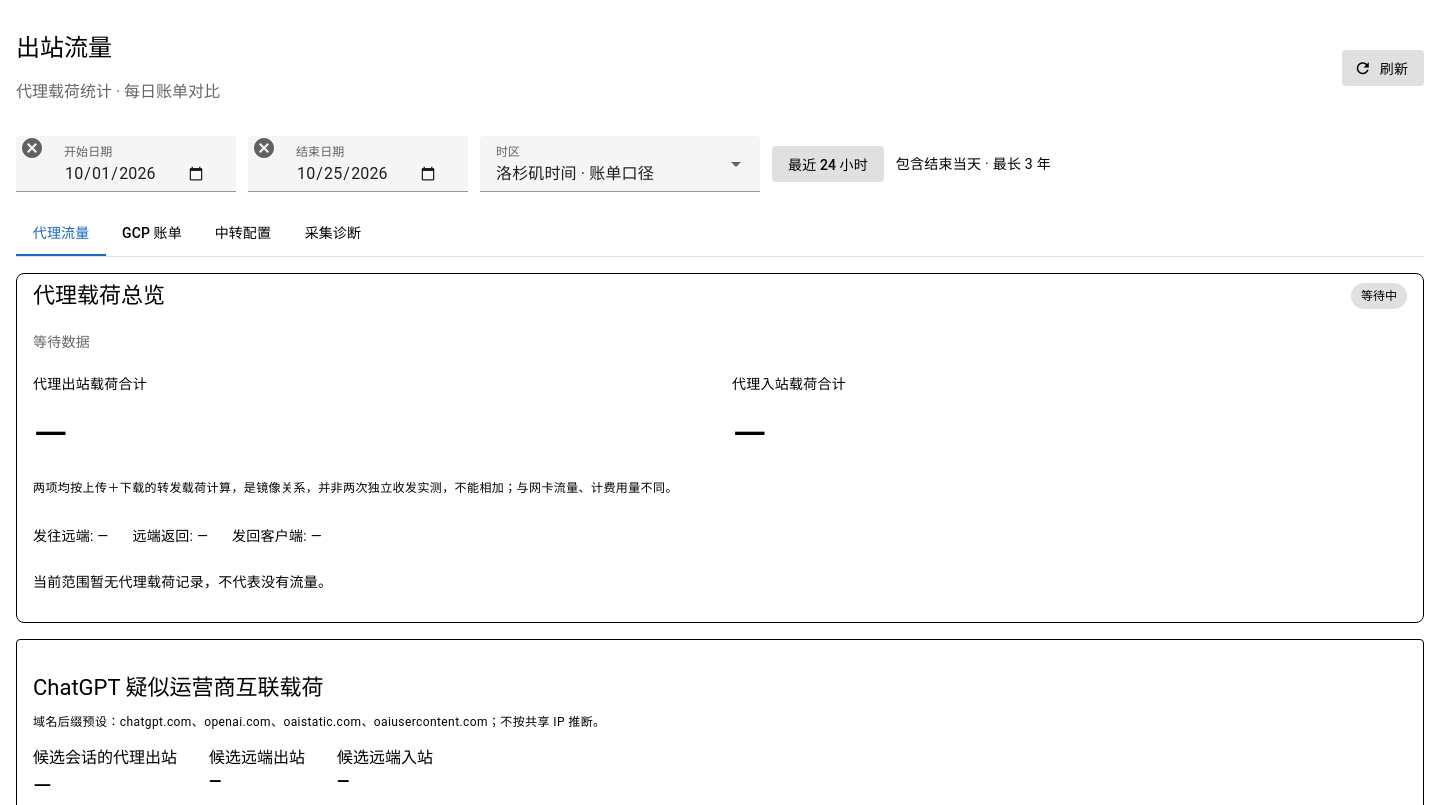
Chinese outbound page › still flags stale live sampling when the default month-to-date range is selected
Check: the date field labelled "开始日期" holds "2026-10-01", box [48,136,224,192]
Check: the date field labelled "结束日期" holds "2026-10-25", box [280,136,456,192]
What coordinates should you click on to do the following:
click the tab "采集诊断"
I would click on:
 (333, 232)
Its box is [288,208,378,256].
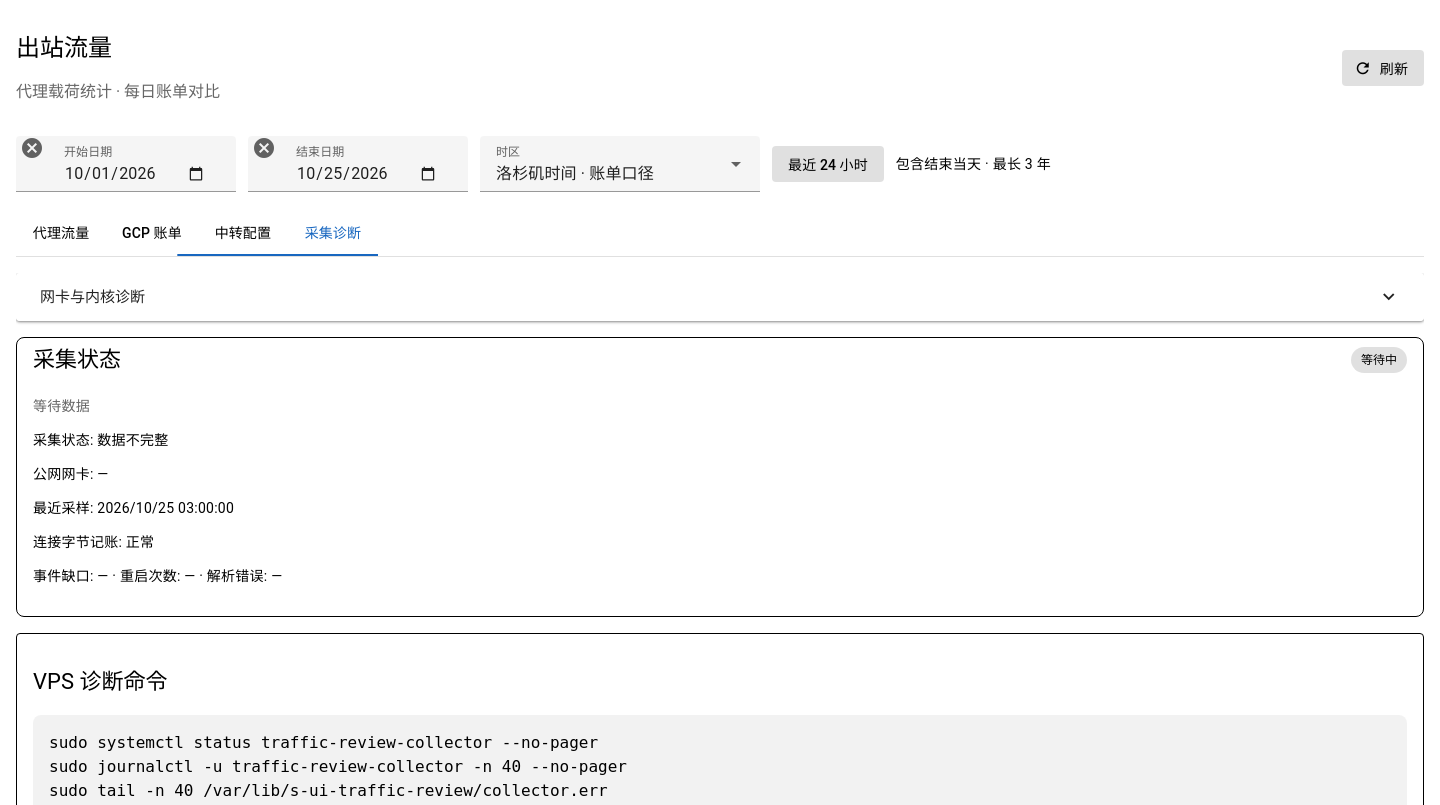
Check: the text "数据不完整" is shown, box [33,432,169,448]
